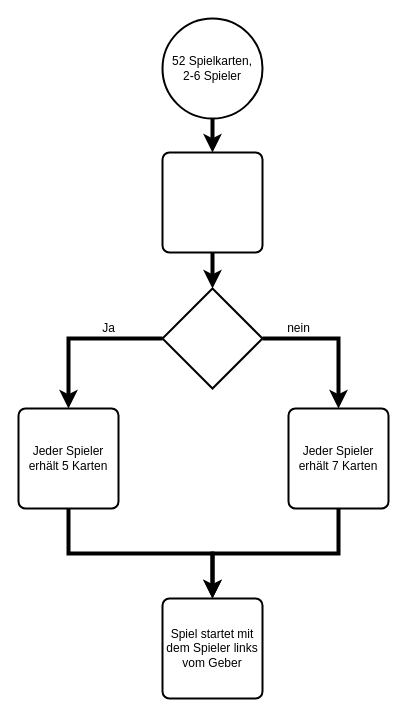
This 406x716 diagram has some shape labels left out. The shapes that lost their labels are listed below. From the top down, each one's box as (x1, y1, x2, y2) in pixels, then its label:
(161, 151, 263, 253): die Spielkarten werden gemischt
(161, 287, 263, 389): mehr als 4 Mitspieler
